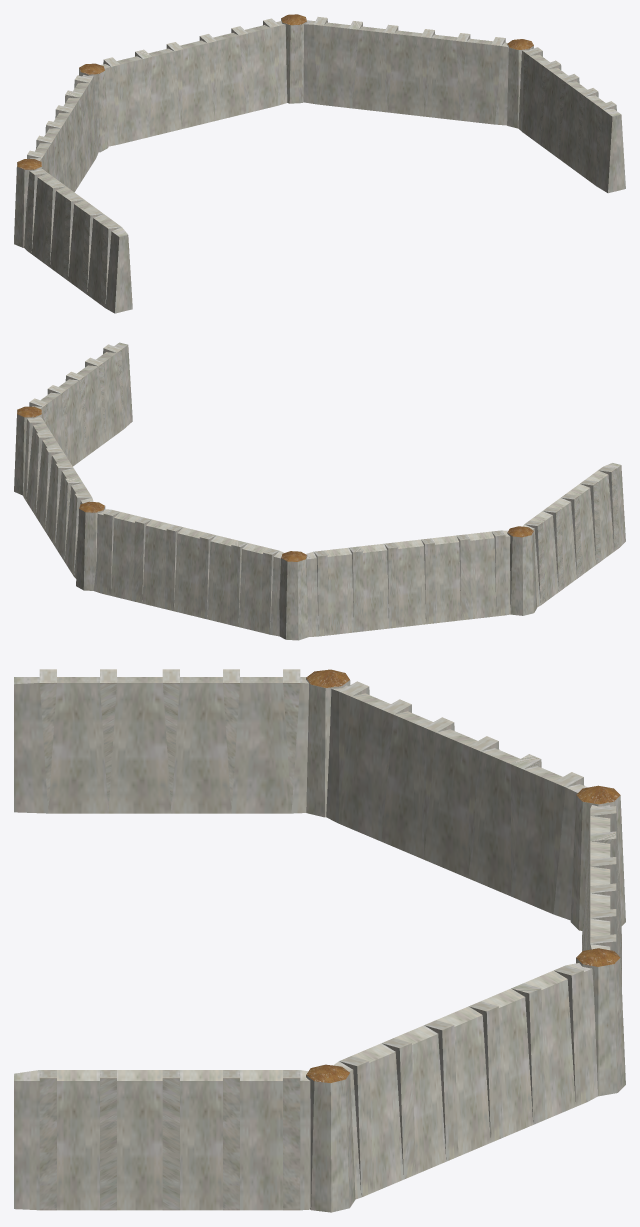
Rendered from poi_all_rebl_corral_half_64x64_s01_l1.fbx.
3 renders of one model, top to bottom at view 1: azimuth 30°, elevation 25°; view 2: azimuth 150°, elevation 25°; view 3: azimuth 270°, elevation 25°, orthographic. The views are drawn at different scales.
Parts seen in each view (by area): view 1: mesh_node; view 2: mesh_node; view 3: mesh_node.
Boxes of the visible parts, x1,y1,x2,y2 form: mesh_node: [14, 14, 625, 313]; mesh_node: [14, 342, 625, 640]; mesh_node: [14, 669, 625, 1212].
Bounding box in the file's own units: 43.23 × 6.5 × 26.73.
